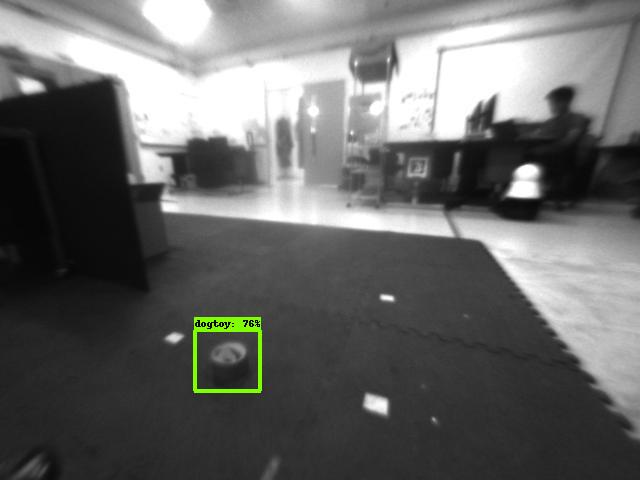dogtoy: (192, 333, 258, 382)
